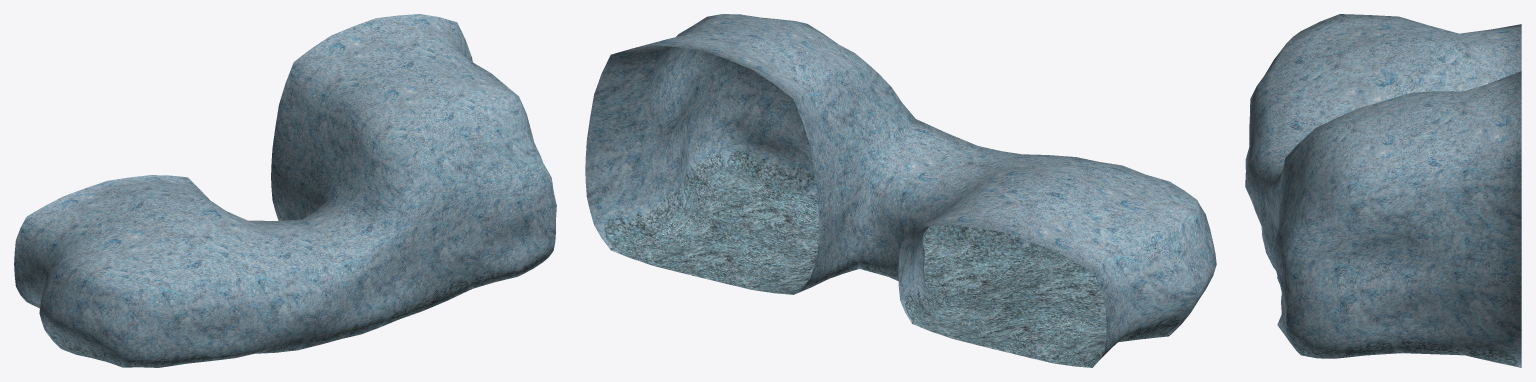
Rendered from thm_all_cave_flatland_s03_ice_r8_r8.fbx.
3 views of the same model, side by side, from view 1: azimuth 30°, elevation 25°; view 2: azimuth 150°, elevation 25°; view 3: azimuth 270°, elevation 25° (orthographic). The views are drawn at different scales.
Visible parts, largest first — view 1: mesh_node; view 2: mesh_node; view 3: mesh_node.
Boxes of the visible parts, left/top/right/bottom form: mesh_node: left=14, top=14, right=556, bottom=367; mesh_node: left=585, top=14, right=1216, bottom=367; mesh_node: left=1245, top=14, right=1521, bottom=367.
Bounding box in the file's own units: 44.12 × 18.91 × 18.42.
